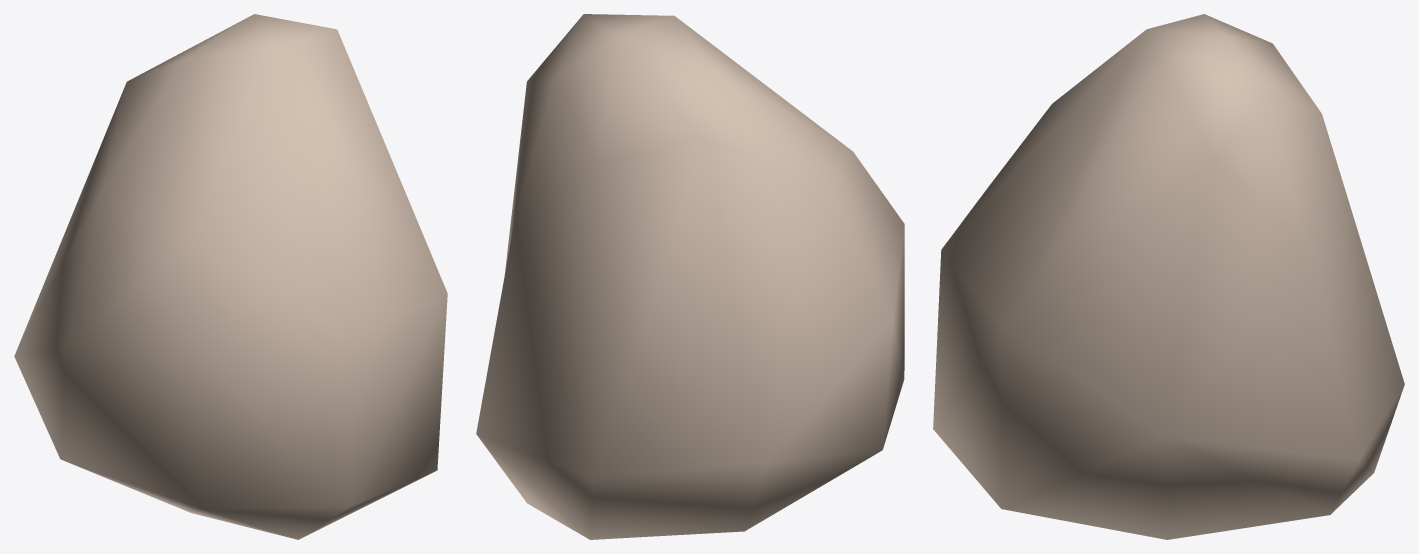
File: Rock 1.fbx
3 views of the same model, side by side, from view 1: azimuth 30°, elevation 25°; view 2: azimuth 150°, elevation 25°; view 3: azimuth 270°, elevation 25° (orthographic). The views are drawn at different scales.
Parts seen in each view (by area): view 1: Rock 1; view 2: Rock 1; view 3: Rock 1.
Boxes of the visible parts, x1,y1,x2,y2 form: Rock 1: (14, 14, 447, 539); Rock 1: (476, 14, 904, 539); Rock 1: (933, 14, 1404, 539).
Size of the model in its own units: 1.02 by 1.15 by 1.06.
